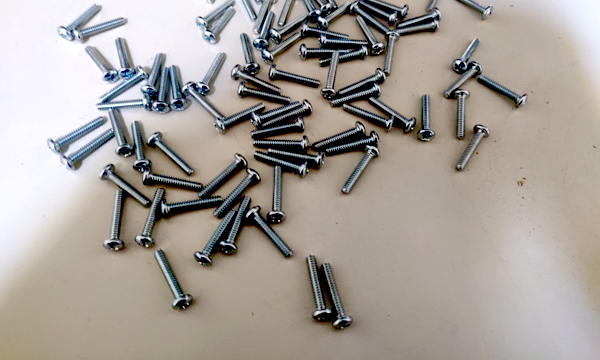longscrew: (248, 205, 292, 262), (199, 204, 236, 266), (154, 250, 192, 310), (215, 169, 262, 215), (60, 130, 112, 169), (47, 116, 103, 152), (224, 195, 253, 258), (324, 263, 350, 331), (305, 253, 331, 321), (457, 125, 493, 174), (200, 154, 243, 195), (151, 134, 195, 174), (103, 168, 148, 207), (104, 191, 132, 251), (136, 189, 164, 249), (344, 146, 377, 196), (478, 77, 529, 109), (99, 70, 147, 103), (324, 131, 383, 157), (141, 171, 204, 195), (74, 13, 126, 42), (59, 3, 101, 38), (162, 196, 228, 218), (215, 102, 265, 131), (252, 99, 302, 128), (253, 149, 311, 174), (443, 60, 480, 99), (371, 96, 412, 131), (340, 102, 395, 128), (266, 99, 315, 128), (185, 81, 223, 118), (312, 123, 366, 149), (265, 28, 305, 63), (267, 164, 290, 224), (267, 61, 321, 86), (339, 64, 385, 93), (238, 81, 295, 104), (234, 65, 282, 91), (330, 84, 386, 106), (353, 0, 390, 33), (198, 52, 227, 94), (82, 47, 117, 81), (356, 14, 385, 54), (452, 36, 483, 73), (108, 108, 131, 157), (251, 116, 304, 137), (196, 0, 234, 29), (204, 10, 236, 44), (271, 12, 309, 40), (393, 9, 443, 29), (131, 121, 150, 173), (168, 65, 188, 111), (254, 11, 277, 51), (324, 49, 342, 100), (253, 133, 310, 149), (240, 32, 262, 73), (271, 150, 324, 167), (142, 51, 162, 96), (152, 68, 172, 113), (303, 23, 355, 40), (358, 0, 398, 21), (320, 0, 350, 27), (454, 90, 470, 140), (319, 49, 372, 64), (253, 0, 276, 34), (383, 34, 401, 76), (115, 40, 134, 79), (420, 94, 435, 143), (452, 0, 492, 18), (318, 36, 369, 50), (97, 99, 151, 111), (366, 0, 409, 14), (278, 0, 300, 27), (402, 20, 448, 32), (298, 46, 351, 56), (233, 0, 256, 21), (303, 0, 333, 13), (303, 0, 322, 19), (432, 0, 452, 10), (314, 0, 336, 7), (207, 0, 232, 4), (236, 0, 261, 3)
